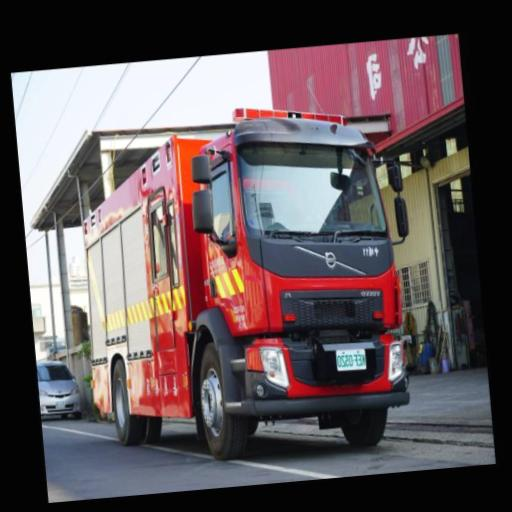fire truck: (54, 61, 452, 472)
